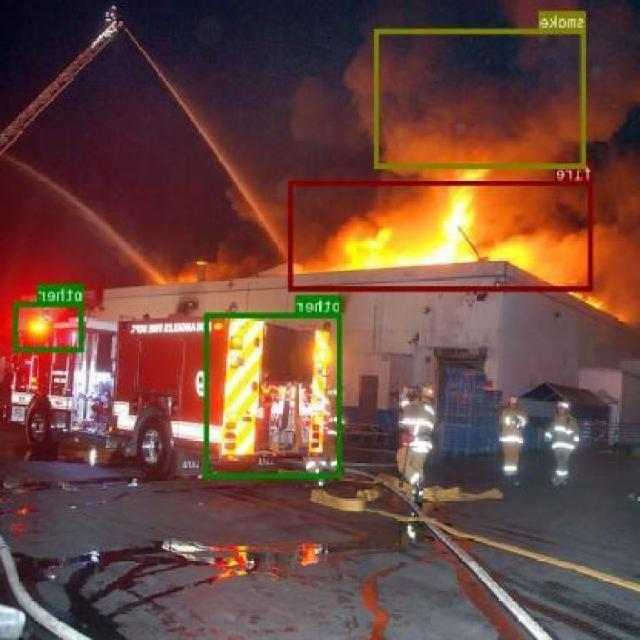Fire: (275, 176, 635, 294)
Smoke: (292, 0, 628, 200)
